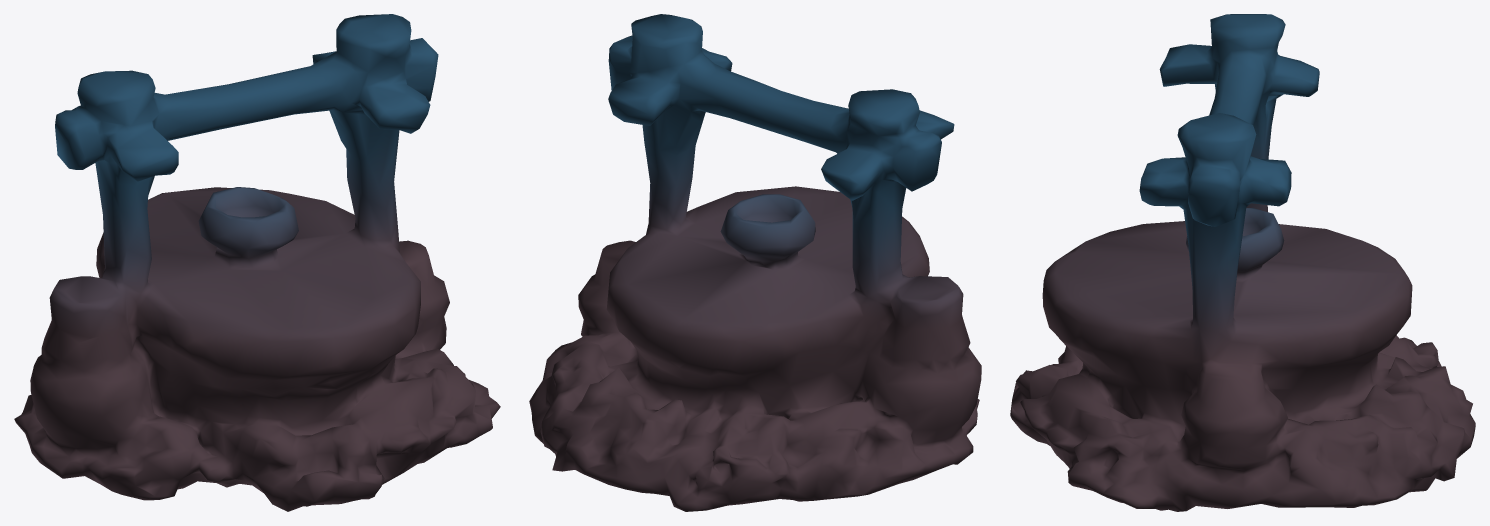
The model's file is water-station.glb.
3 renders of one model, left to right at view 1: azimuth 30°, elevation 25°; view 2: azimuth 150°, elevation 25°; view 3: azimuth 270°, elevation 25°, orthographic. The views are drawn at different scales.
Parts seen in each view (by area): view 1: water-station; view 2: water-station; view 3: water-station.
Part boxes in pixels (x1,y1,x2,y2): water-station: (14,14,500,511); water-station: (529,14,981,511); water-station: (1010,14,1475,511).
Size of the model in its own units: 0.013 by 0.0116 by 0.0134.
